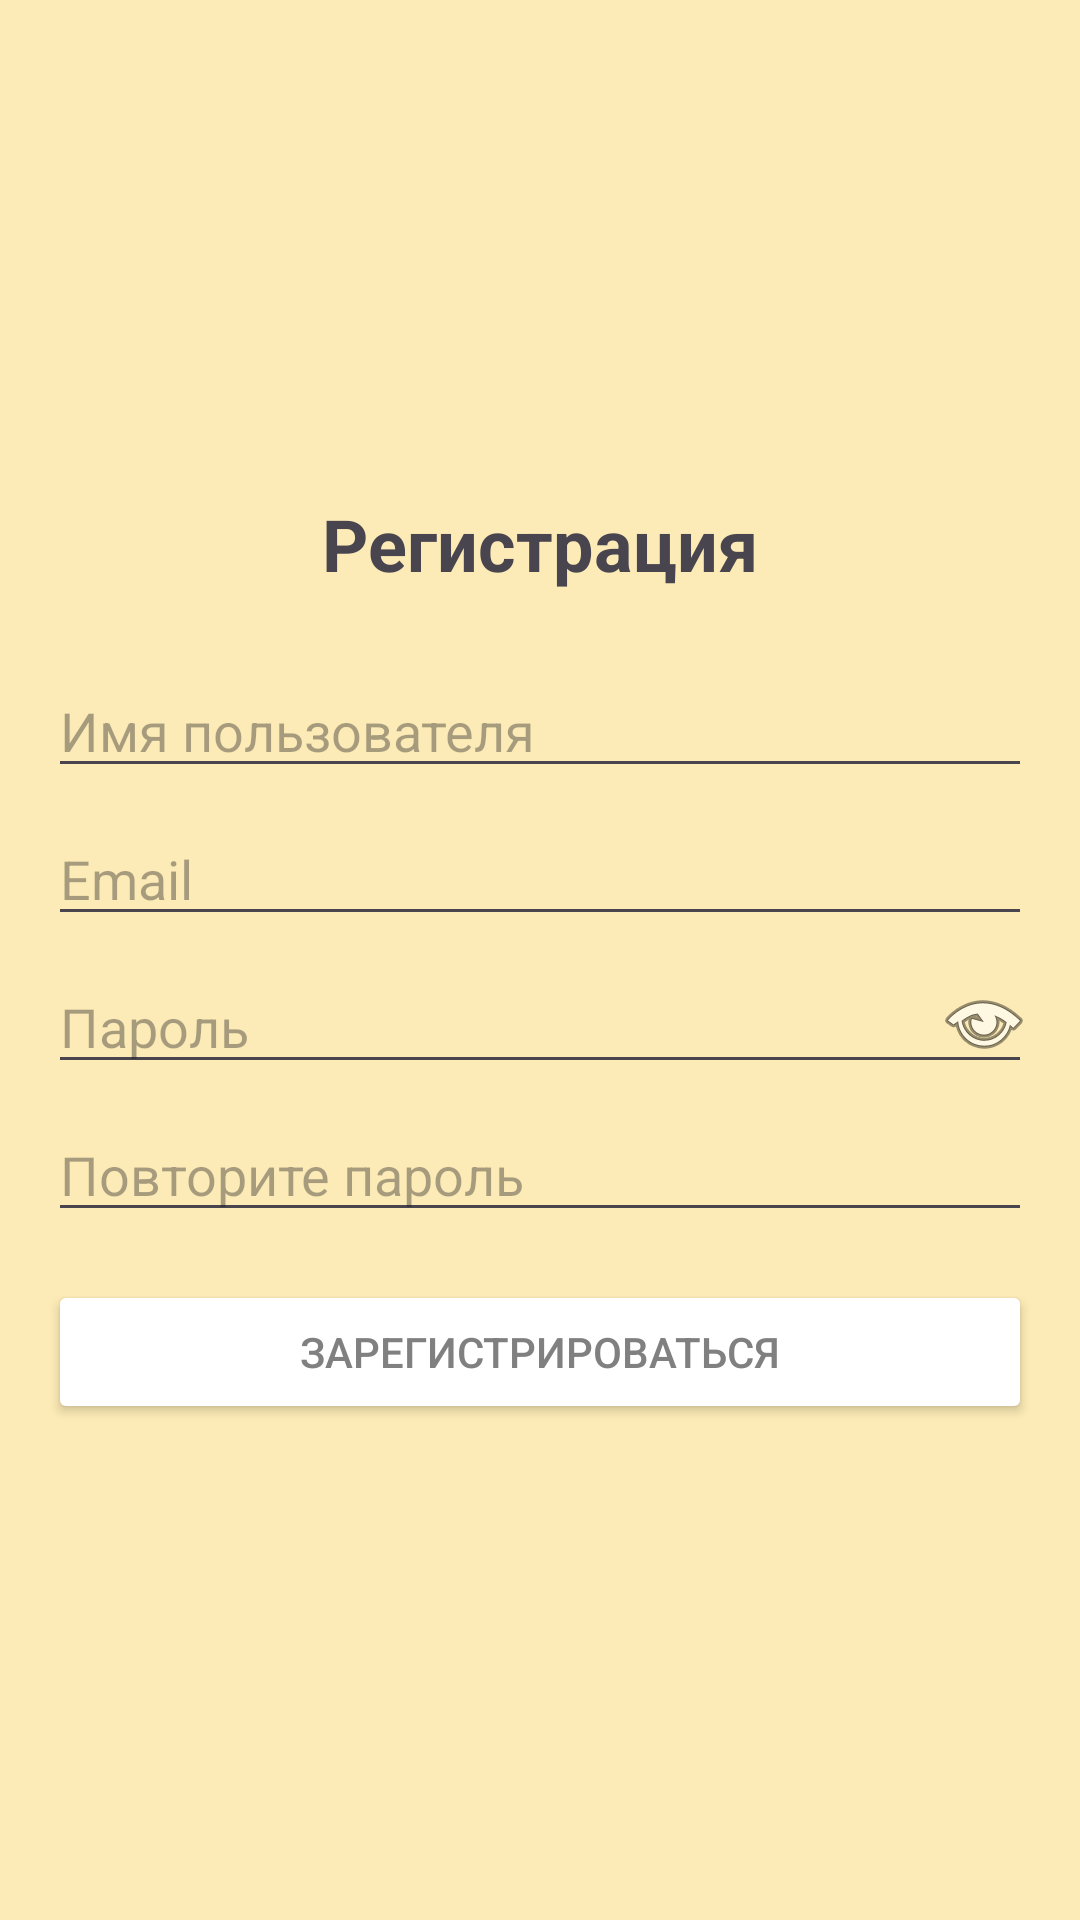

Point at icon controls on the screen. Image size 1080 x 1920, points as (x,y).
view: (984,1024)
